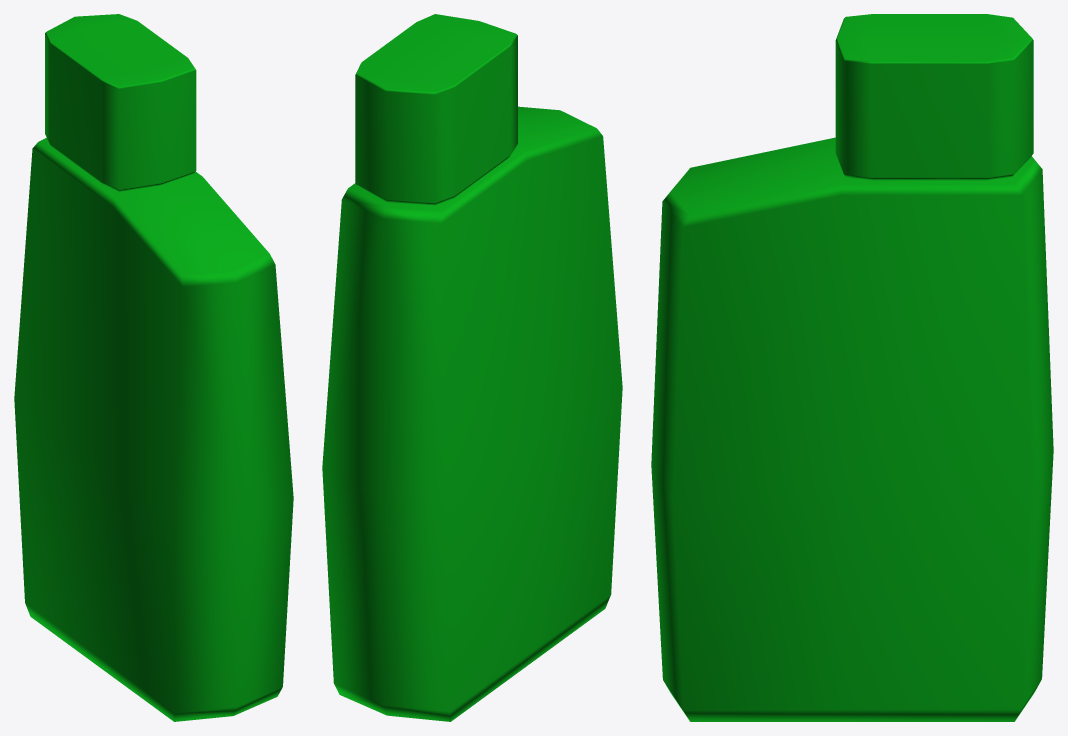
Rendered from Household_Products_01.fbx.
The picture shows the model from 3 angles, left to right: view 1: azimuth 30°, elevation 25°; view 2: azimuth 150°, elevation 25°; view 3: azimuth 270°, elevation 25°; orthographic projection. The views are drawn at different scales.
Parts seen in each view (by area): view 1: Household_Products_01; view 2: Household_Products_01; view 3: Household_Products_01.
Part boxes in pixels (x1,y1,x2,y2): Household_Products_01: [14, 14, 293, 721]; Household_Products_01: [322, 14, 622, 721]; Household_Products_01: [651, 14, 1053, 721].
Bounding box in the file's own units: 40.71 × 188 × 105.
